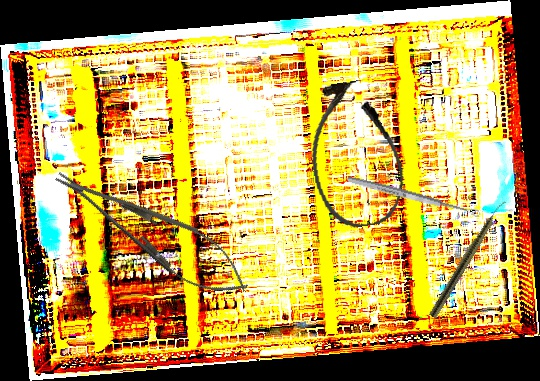Cannula: (300, 75, 411, 233)
Handpiece: (428, 197, 508, 320)
Needle Holder: (44, 152, 260, 311)
Surgical Spoon: (346, 174, 481, 219)
